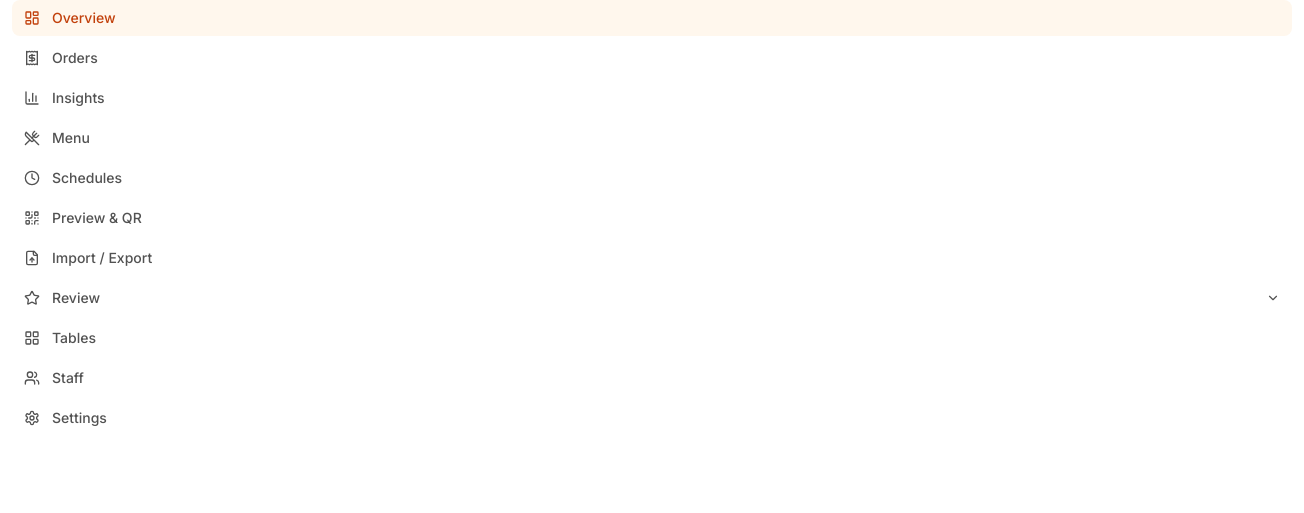
Test case: SidebarNav — the Review group › opens and closes on click when you're outside the section
The width and height of the screenshot is (1304, 513).
Step 1. Click the button "Review" → {"x": 76, "y": 298}, box top-left (12, 280), bottom-right (1292, 316)
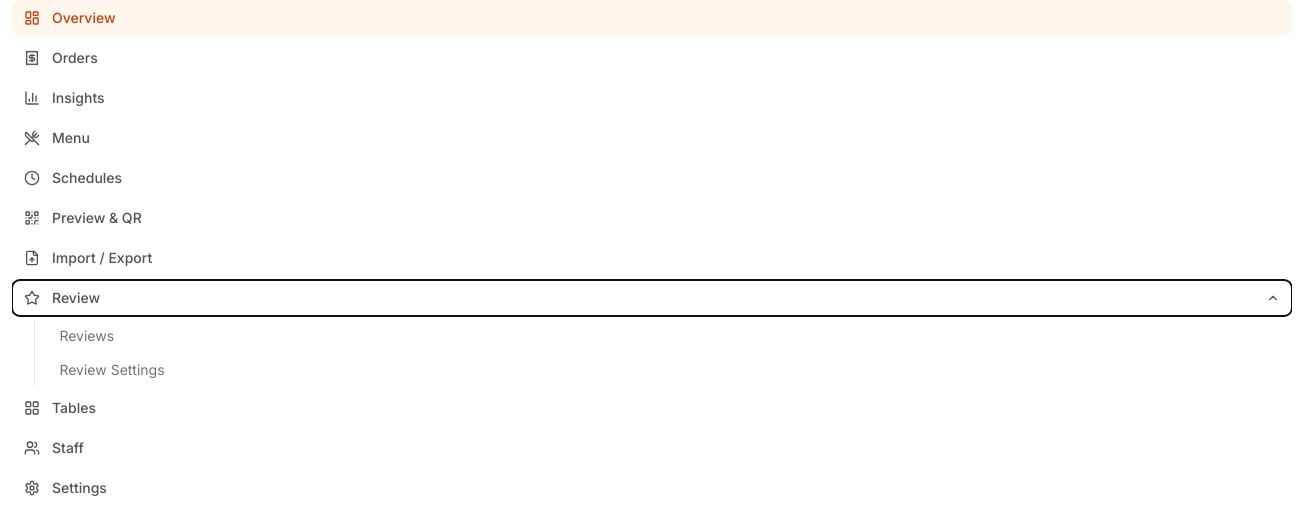
Expected: the button "Review" is expanded
Expected: the link "Reviews" is shown, top-left (59, 327), bottom-right (114, 344)
Step 2. Click the button "Review" → {"x": 76, "y": 298}, box top-left (12, 280), bottom-right (1292, 316)
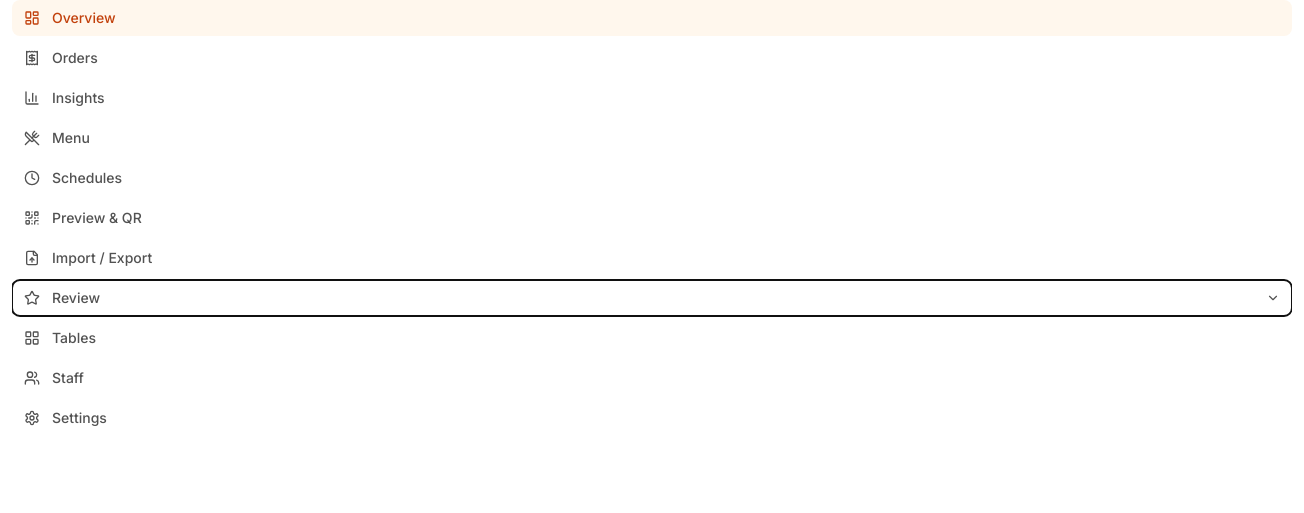
Expected: the button "Review" is collapsed, top-left (12, 280), bottom-right (1292, 316)
Expected: the link "Reviews" is gone
